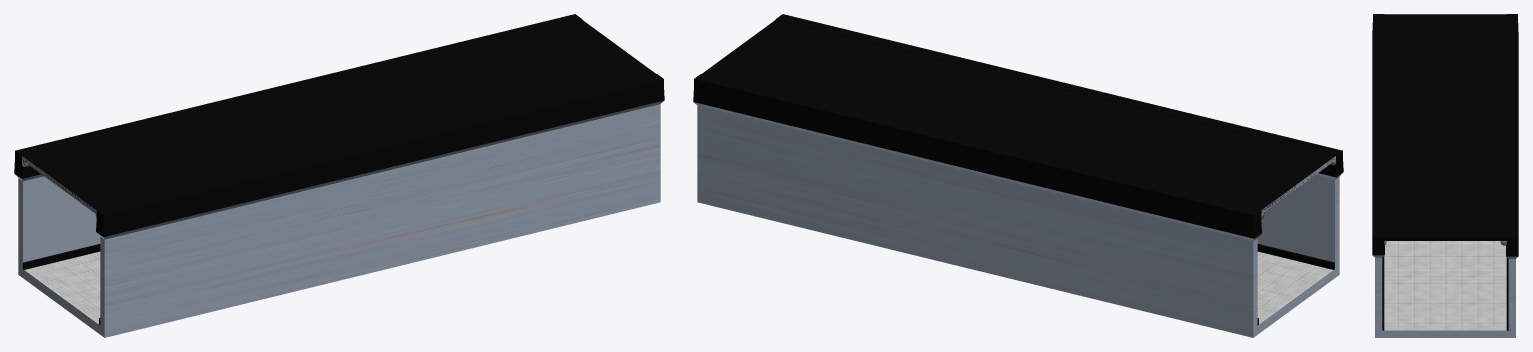
The model's file is Level basic .fbx.
3 renders of one model, left to right at view 1: azimuth 30°, elevation 25°; view 2: azimuth 150°, elevation 25°; view 3: azimuth 270°, elevation 25°, orthographic. The views are drawn at different scales.
Visible parts, largest first — view 1: Cube.001; view 2: Cube.001; view 3: Cube.001.
Boxes of the visible parts, x1,y1,x2,y2 form: Cube.001: (14,14,664,337); Cube.001: (693,14,1343,337); Cube.001: (1372,14,1518,337).
Bounding box in the file's own units: 1632 × 1248 × 5922.
6 materials, 2 textured.
